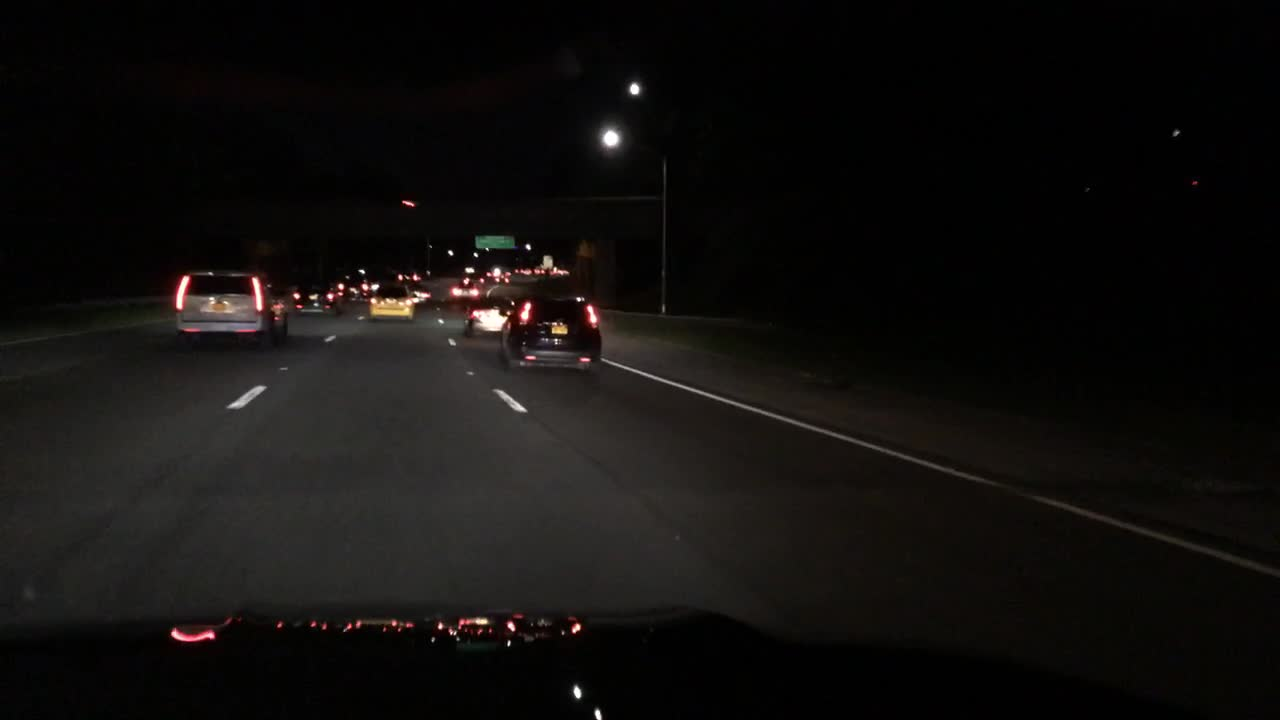car: (171, 268, 288, 350), (495, 297, 603, 374), (462, 295, 516, 336), (292, 274, 341, 315), (369, 282, 410, 322), (338, 266, 374, 302), (407, 280, 431, 303), (454, 276, 477, 296), (396, 267, 423, 283), (478, 269, 498, 282), (495, 269, 511, 282)
traffic sign: (474, 234, 514, 249), (542, 254, 553, 267)
